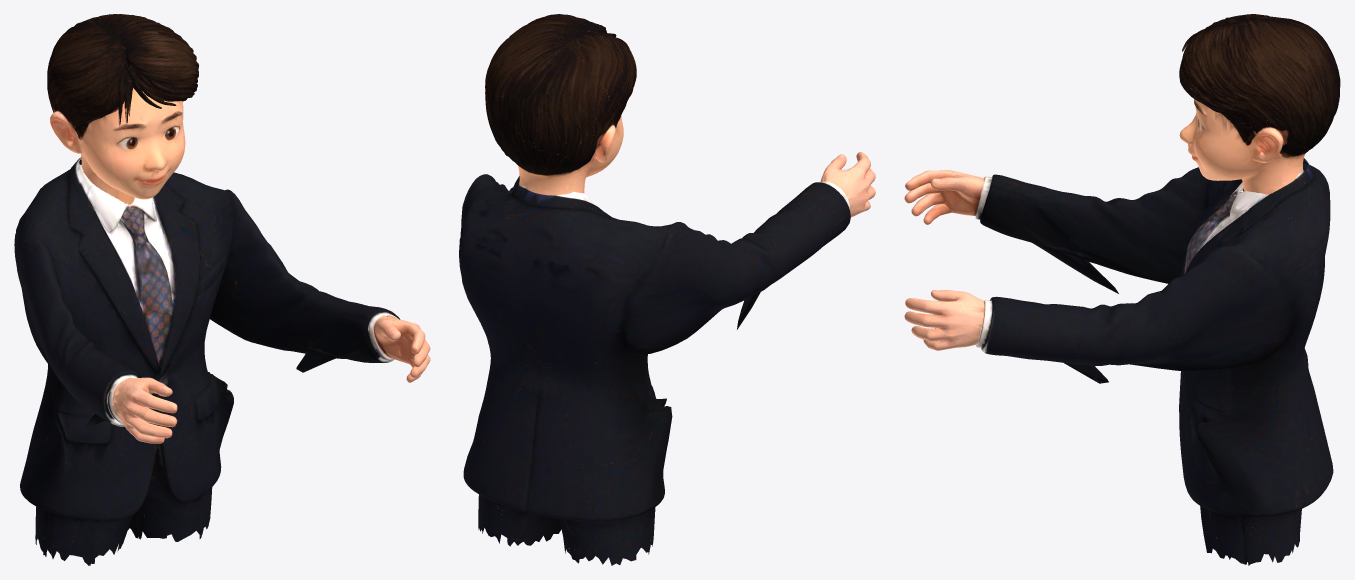
Rendered from teacher-6-7.glb.
The picture shows the model from 3 angles, left to right: view 1: azimuth 30°, elevation 25°; view 2: azimuth 150°, elevation 25°; view 3: azimuth 270°, elevation 25°; orthographic projection.
Visible parts, largest first — view 1: teacher-6-7-운전자.001, teacher-6-7-운전자; view 2: teacher-6-7-운전자.001, teacher-6-7-운전자; view 3: teacher-6-7-운전자.001, teacher-6-7-운전자.
Part boxes in pixels (left/top/right/bottom): teacher-6-7-운전자.001: left=14, top=157, right=430, bottom=565; teacher-6-7-운전자: left=47, top=14, right=198, bottom=208; teacher-6-7-운전자.001: left=459, top=152, right=875, bottom=565; teacher-6-7-운전자: left=485, top=14, right=636, bottom=195; teacher-6-7-운전자.001: left=904, top=158, right=1333, bottom=565; teacher-6-7-운전자: left=1179, top=14, right=1340, bottom=194.
Bounding box in the file's own units: 0.6827 × 1.11 × 0.8595.
2 materials, 2 textured.
